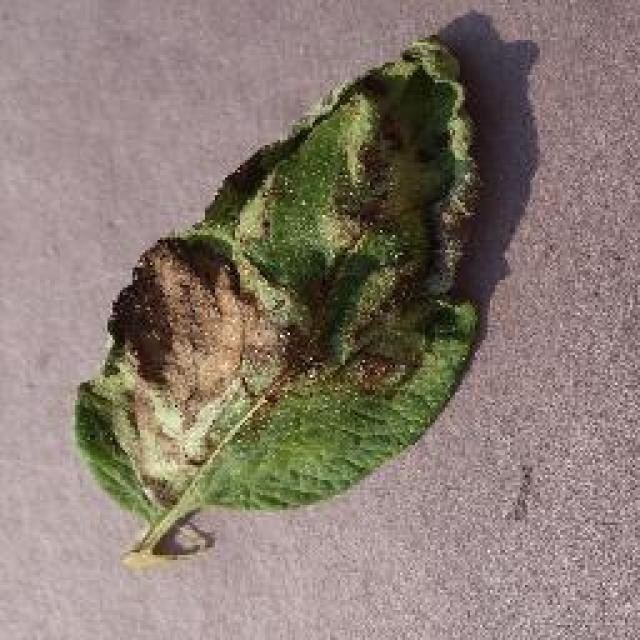late_blight: (70, 30, 488, 562)
